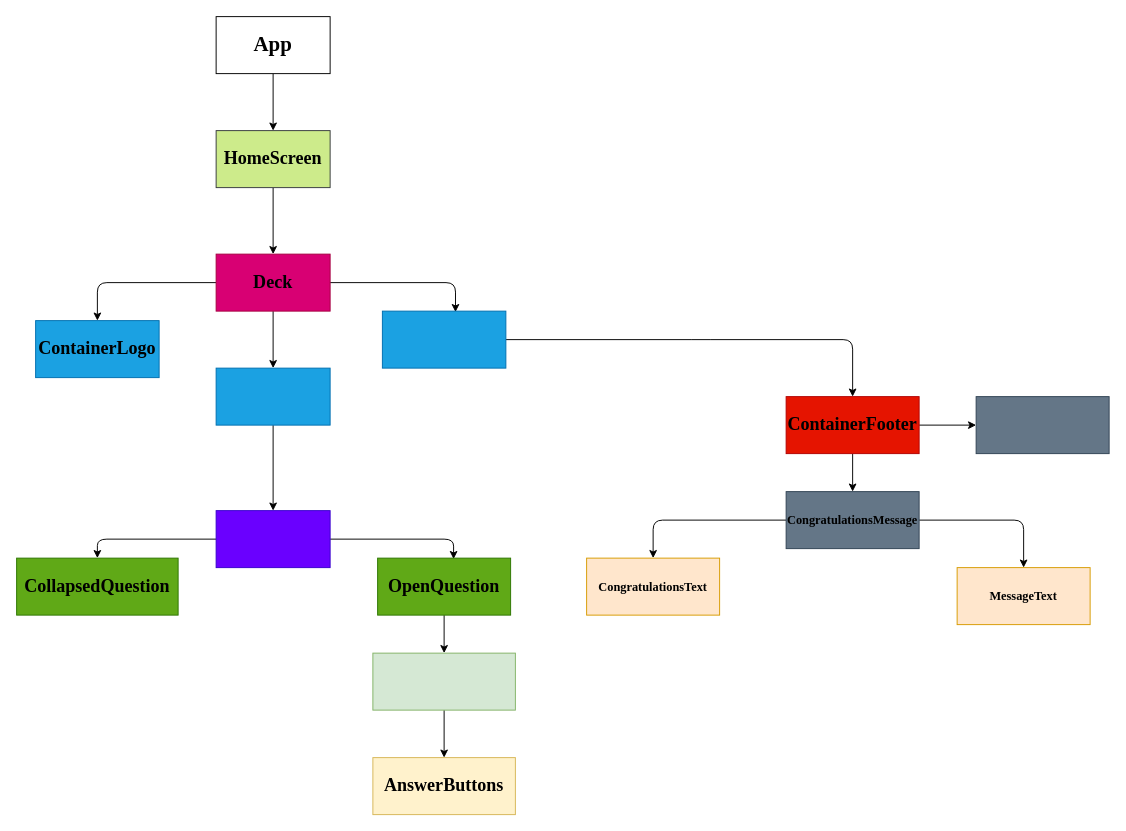
The diagram is 1126 pixels wide and 831 high, and some of its shapes have lost their labels. Each missing label, with the centre of its shape:
"AnwersIcon" goes at (x=1042, y=425).
"Container" goes at (x=272, y=539).
"ContainerButtons" goes at (x=443, y=681).
"FlashCards" goes at (x=272, y=396).
"Footer" goes at (x=443, y=339).
